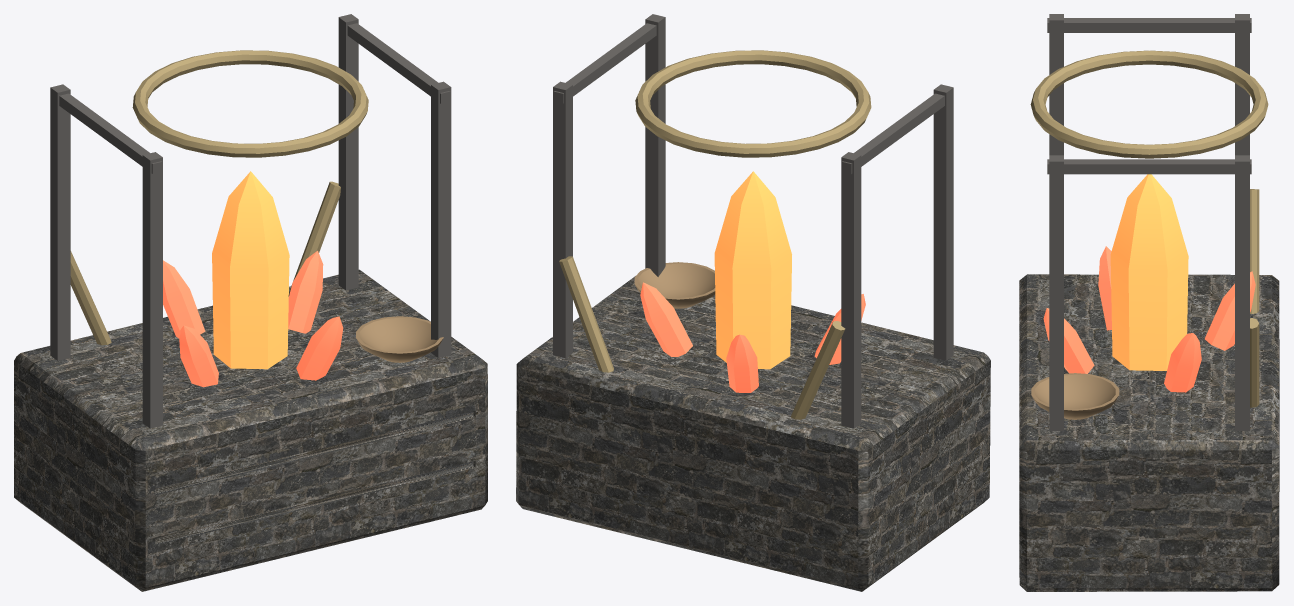
Rendered from ember-extraction-altar-v01.glb.
3 renders of one model, left to right at view 1: azimuth 30°, elevation 25°; view 2: azimuth 150°, elevation 25°; view 3: azimuth 270°, elevation 25°, orthographic.
Parts seen in each view (by area): view 1: ember-extraction-altar; view 2: ember-extraction-altar; view 3: ember-extraction-altar.
Part boxes in pixels (box(x1,y1,x2,y2)): ember-extraction-altar: box(14, 14, 487, 591); ember-extraction-altar: box(516, 14, 990, 591); ember-extraction-altar: box(1019, 14, 1279, 591).
Size of the model in its own units: 2.2 by 2.5 by 1.4.
6 materials, 1 textured.
